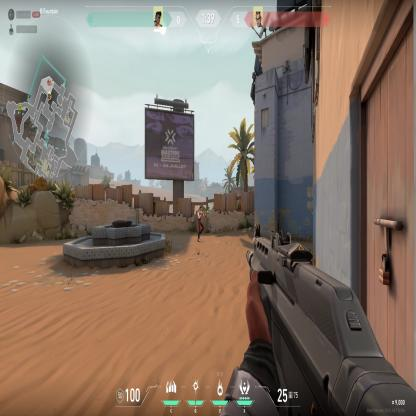enemy: (197, 206, 204, 244)
